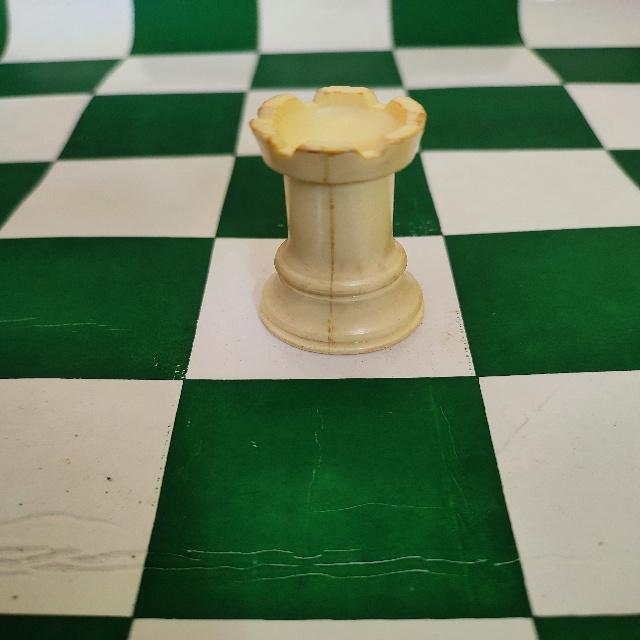Rook: (242, 84, 440, 360)
